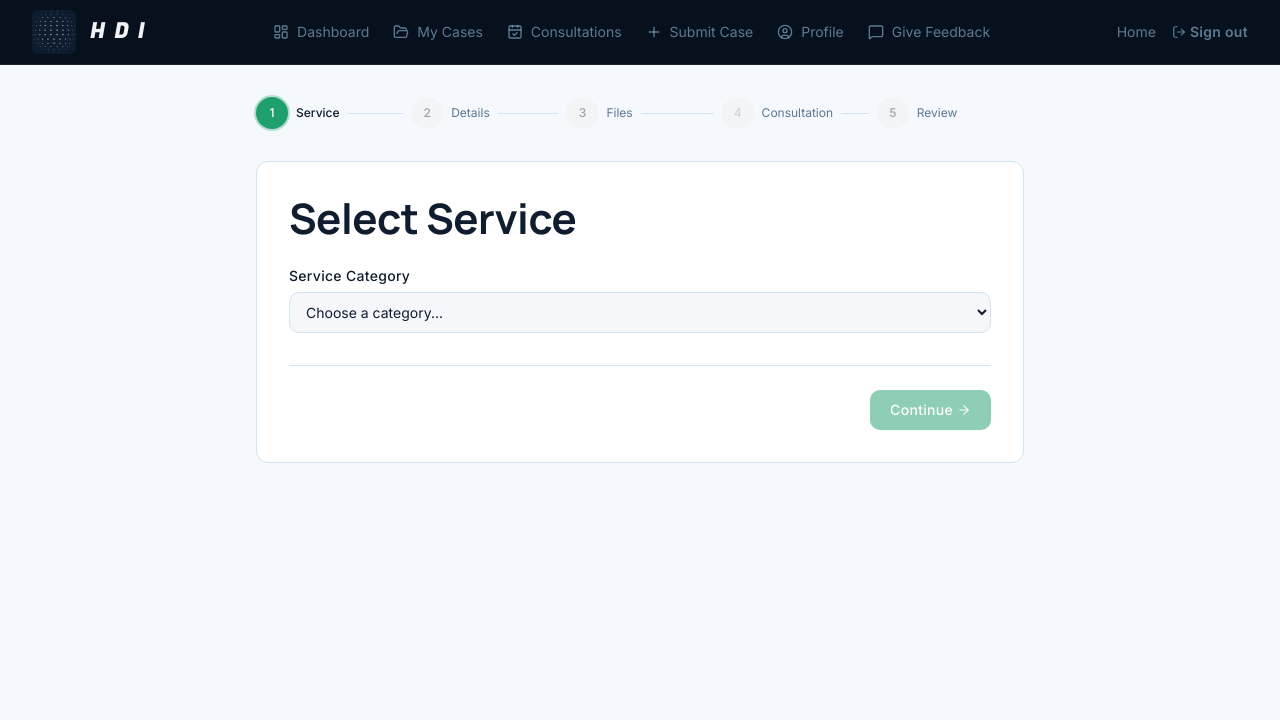
Test case: SubmitCase — Step 0: Select Service › shows service dropdown after selecting a category
Select "Surgical Guide" in the dropdown at (640, 313), box top-left (289, 292), bottom-right (991, 333)
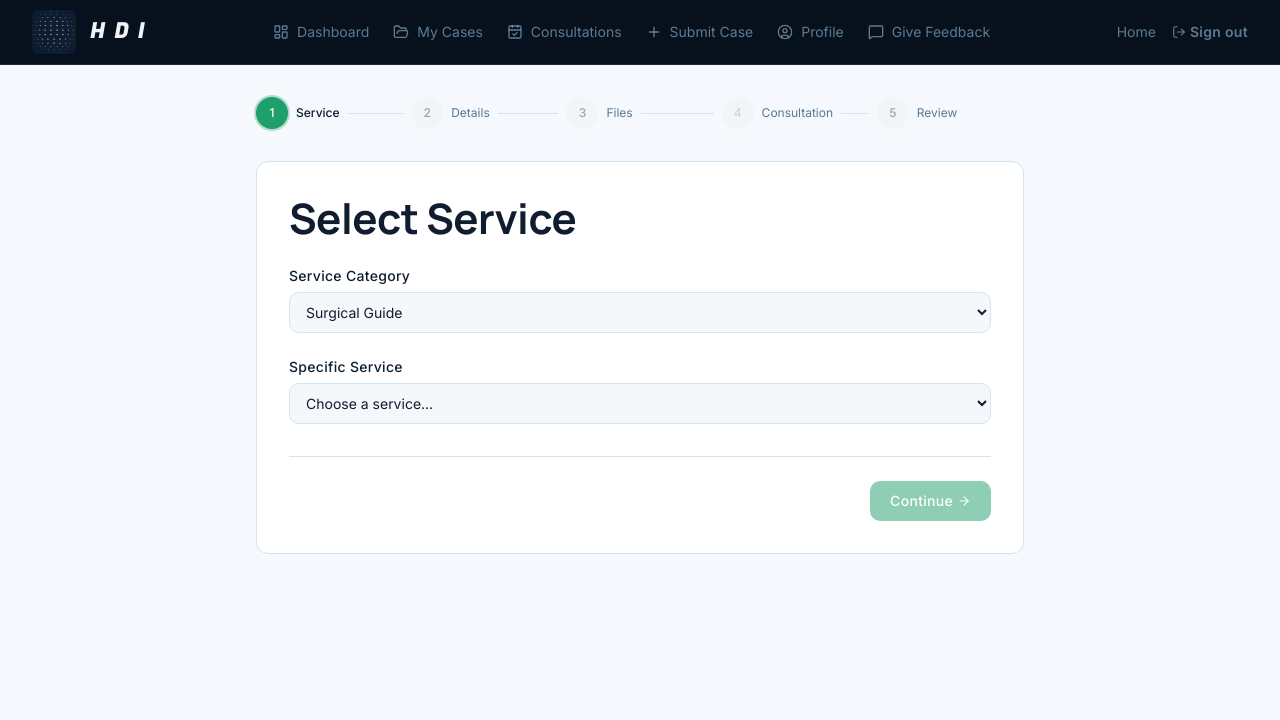
Expected: the number of dropdowns is 2, top-left (289, 292), bottom-right (991, 333); top-left (289, 383), bottom-right (991, 424)
